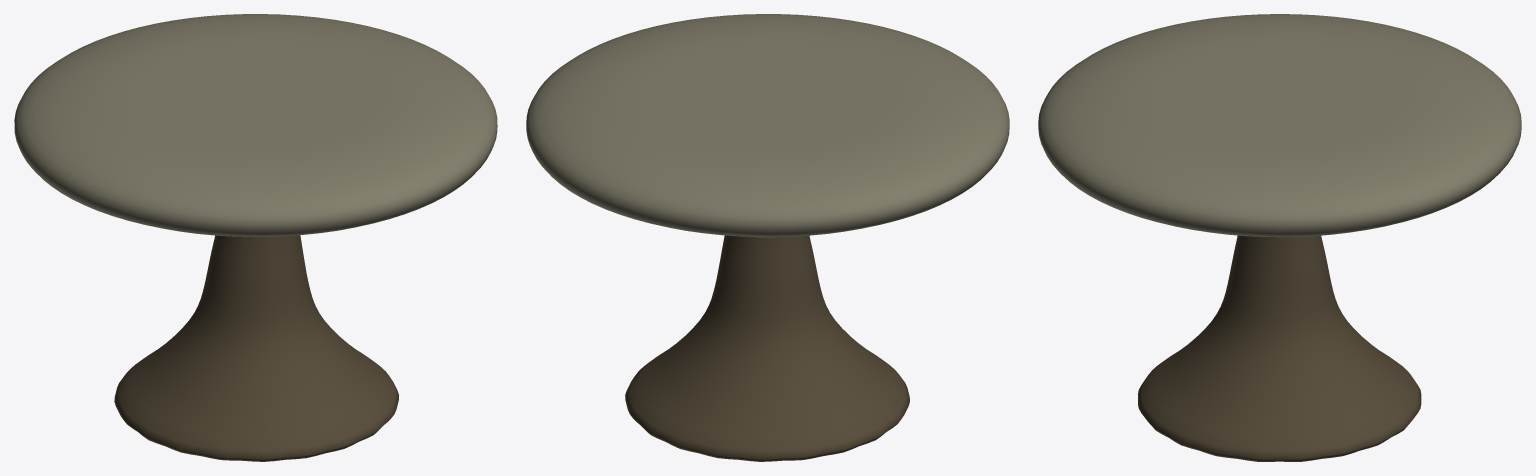
File: table.fbx
3 views of the same model, side by side, from view 1: azimuth 30°, elevation 25°; view 2: azimuth 150°, elevation 25°; view 3: azimuth 270°, elevation 25° (orthographic).
Visible parts, largest first — view 1: pCylinder3; view 2: pCylinder3; view 3: pCylinder3.
Boxes of the visible parts, bbox=[...] form: pCylinder3: bbox=[14, 14, 497, 461]; pCylinder3: bbox=[526, 14, 1009, 461]; pCylinder3: bbox=[1038, 14, 1521, 461].
Size of the model in its own units: 2.97 by 2.1 by 2.97.
